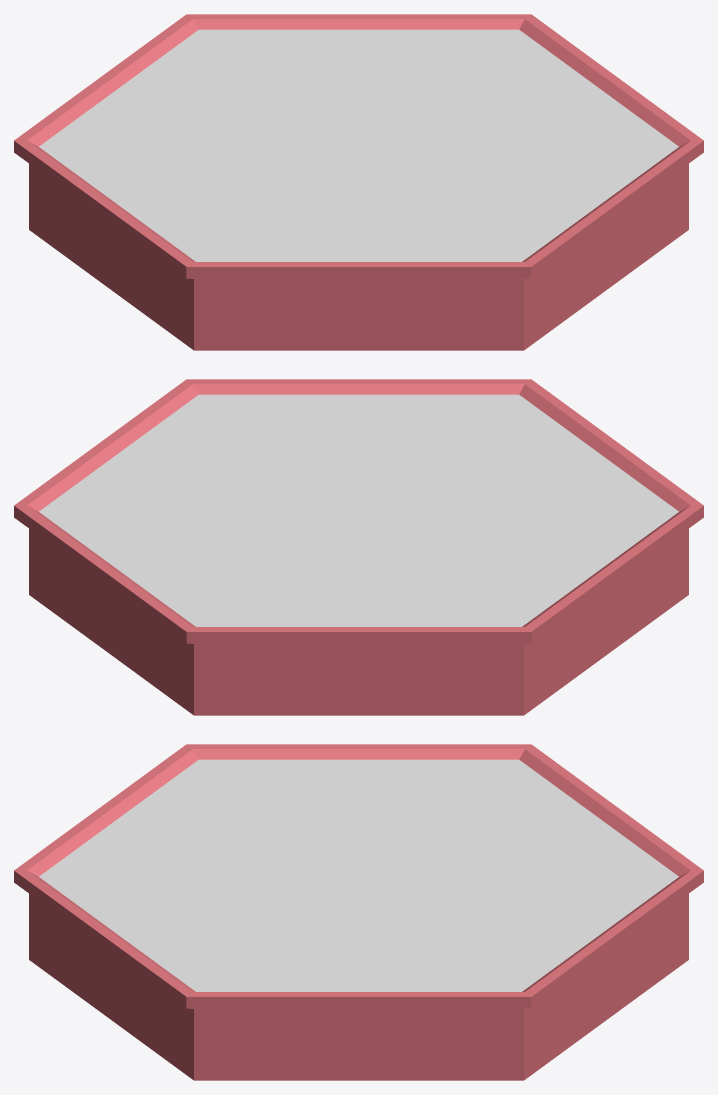
Rendered from Platform.fbx.
3 views of the same model, one above another, from view 1: azimuth 30°, elevation 25°; view 2: azimuth 150°, elevation 25°; view 3: azimuth 270°, elevation 25° (orthographic).
Parts seen in each view (by area): view 1: Hexa_Platform; view 2: Hexa_Platform; view 3: Hexa_Platform.
Part boxes in pixels (left/top/right/bottom): Hexa_Platform: left=14, top=14, right=703, bottom=350; Hexa_Platform: left=14, top=379, right=703, bottom=715; Hexa_Platform: left=14, top=744, right=703, bottom=1080.
Size of the model in its own units: 1.73 by 0.2858 by 2.
